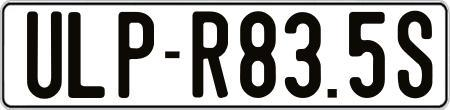3: (285, 12, 327, 102)
5: (346, 12, 384, 100)
8: (239, 11, 281, 99)
L: (67, 10, 107, 96)
P: (119, 9, 156, 100)
R: (191, 8, 228, 98)
S: (397, 9, 433, 101)
U: (24, 9, 61, 102)
